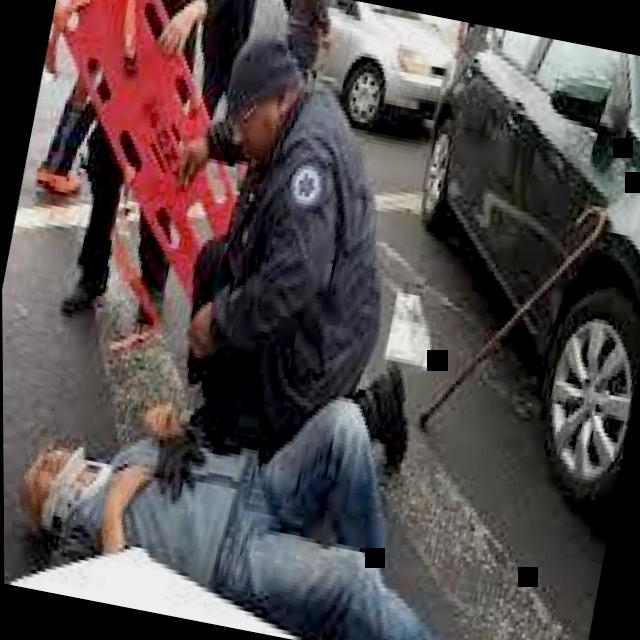Fall-Detected: (2, 328, 598, 640)
